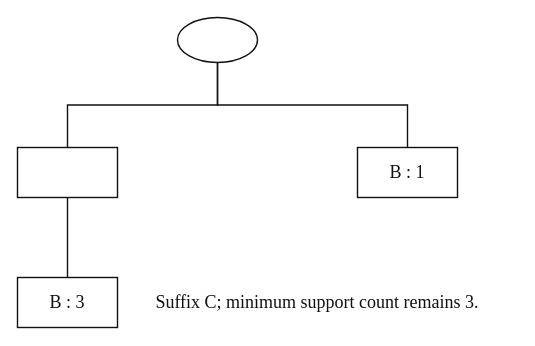
This 535x346 diagram has some shape labels left out. Here are the shapes that lost their labels. From the top down, the centre of each, then its label:
At point (217, 39): "root".
At point (67, 172): "A : 4".
